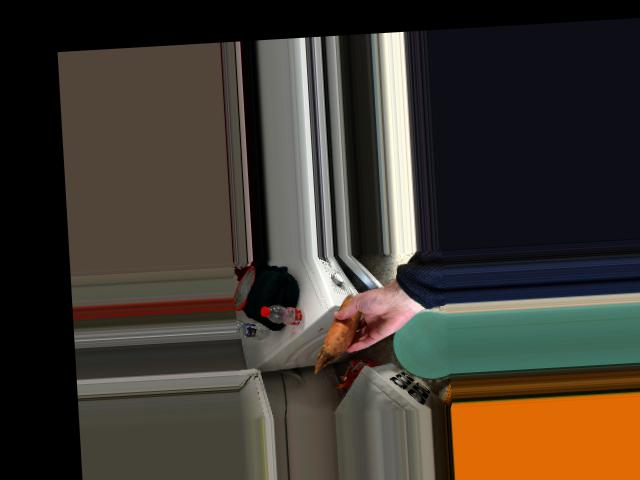sweet_potato: (322, 302, 366, 351)
